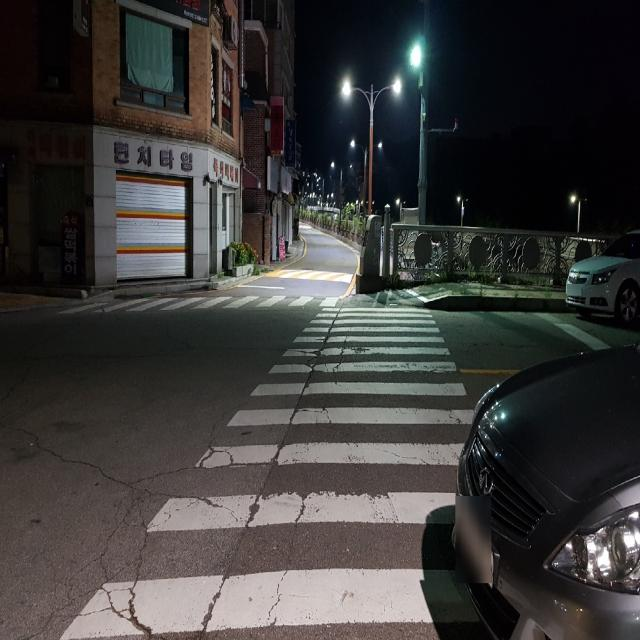횡단보도: (56, 305, 486, 640), (123, 291, 339, 309)
